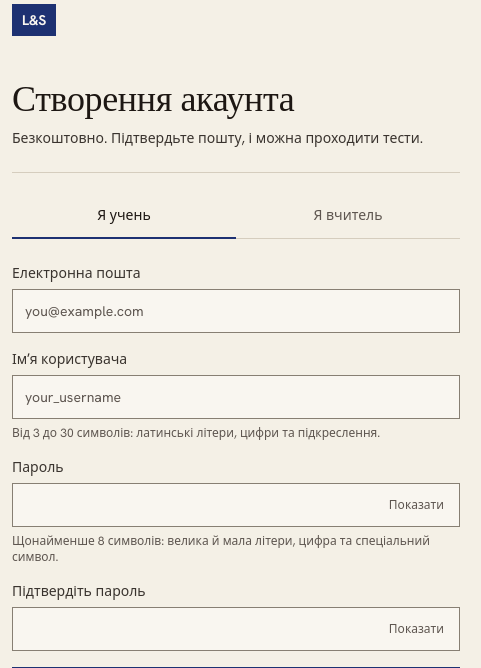
it: RegisterPage › puts a taken email on the email field, not in a corner toast
Type "new@example.com" into the field labelled "Електронна пошта".
click(236, 311); type("new@example.com")  # box [12,289,460,333]
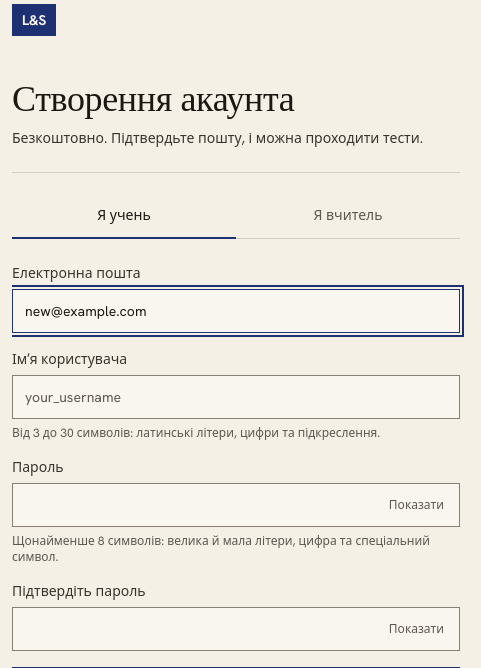
Type "oksana_k" into the field labelled "Імʼя користувача".
click(236, 397); type("oksana_k")  # box [12,375,460,419]
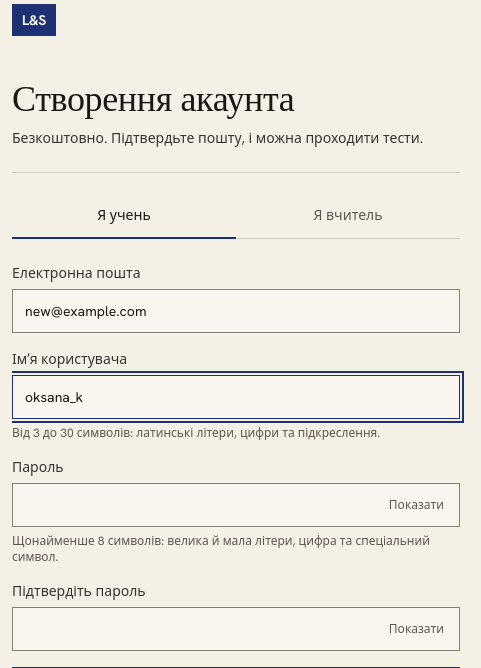
Type "ValidPass1!" into the password field labelled "Пароль".
click(236, 505); type("ValidPass1!")  # box [12,483,460,527]
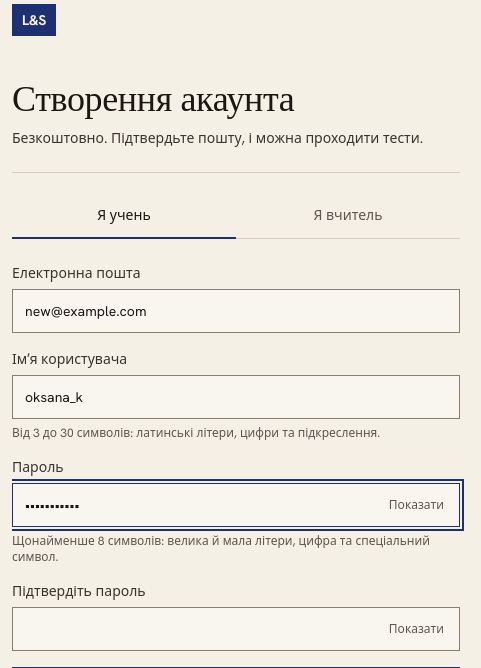
Type "ValidPass1!" into the password field labelled "Підтвердіть пароль".
click(236, 629); type("ValidPass1!")  # box [12,607,460,651]
(page scrolled)
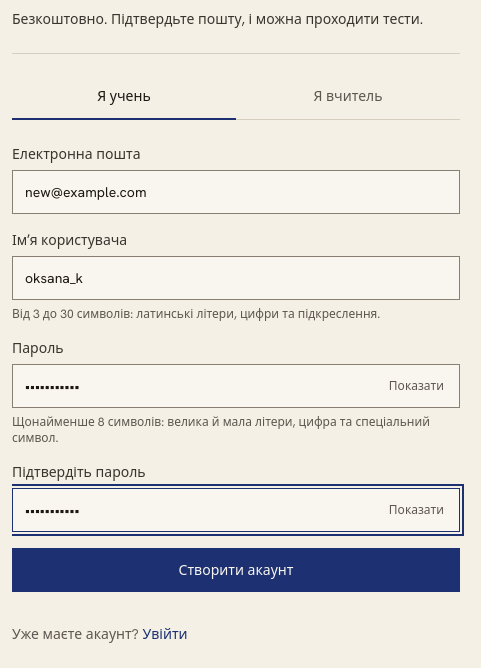
Click the button "Створити акаунт".
click(236, 570)  # box [12,548,460,592]
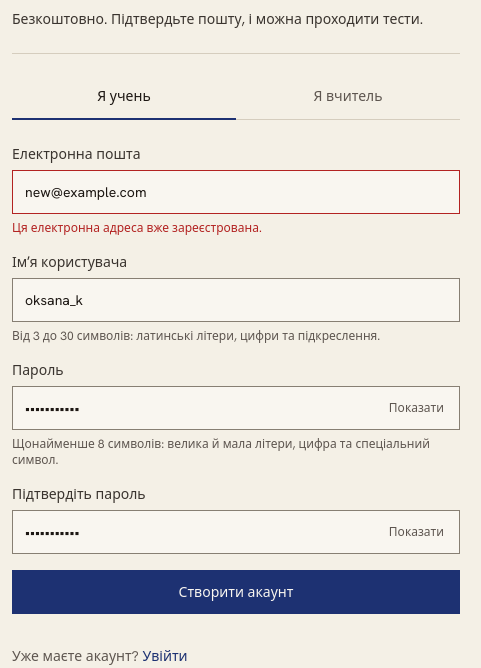
Expected: the text "Ця електронна адреса вже зареєстрована." is shown, [12,220,262,236]
